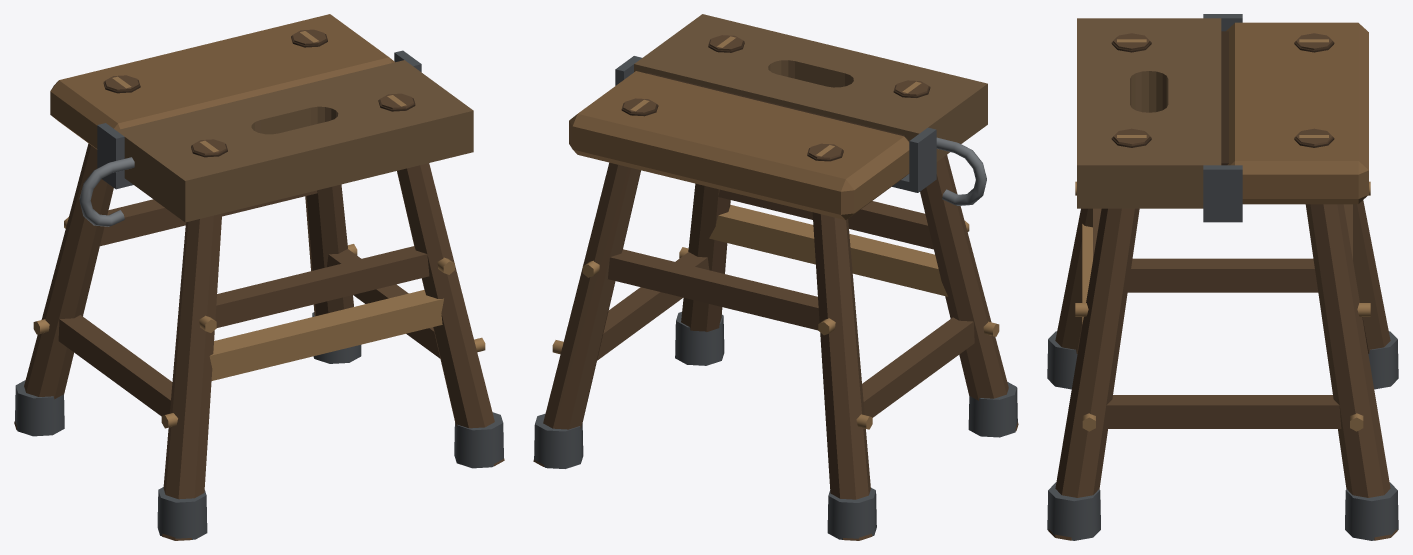
Rendered from SM_LPD_Prison_GuardStool_01.fbx.
3 views of the same model, side by side, from view 1: azimuth 30°, elevation 25°; view 2: azimuth 150°, elevation 25°; view 3: azimuth 270°, elevation 25° (orthographic). The views are drawn at different scales.
Visible parts, largest first — view 1: SM_LPD_Prison_GuardStool_01; view 2: SM_LPD_Prison_GuardStool_01; view 3: SM_LPD_Prison_GuardStool_01.
Part boxes in pixels (x1,y1,x2,y2): SM_LPD_Prison_GuardStool_01: (14, 14, 504, 540); SM_LPD_Prison_GuardStool_01: (533, 14, 1018, 540); SM_LPD_Prison_GuardStool_01: (1047, 14, 1398, 540).
Bounding box in the file's own units: 0.5092 × 0.464 × 0.4045.
